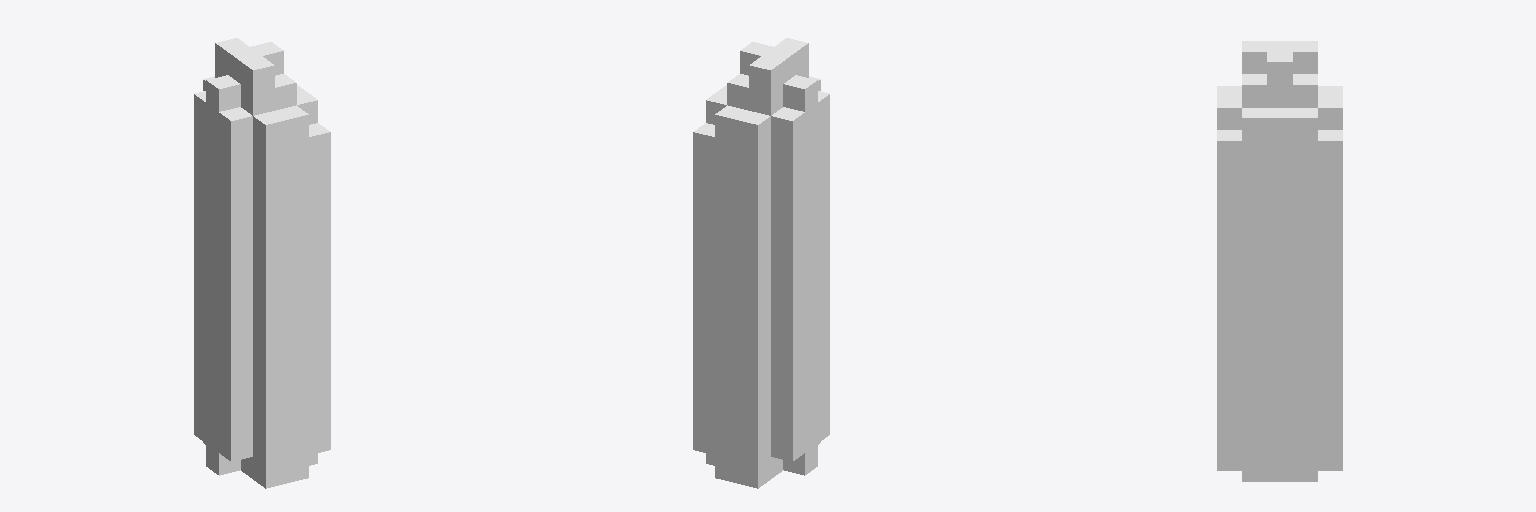
File: RFoot.obj
3 renders of one model, left to right at view 1: azimuth 30°, elevation 25°; view 2: azimuth 150°, elevation 25°; view 3: azimuth 270°, elevation 25°, orthographic.
Visible parts, largest first — view 1: object 1; view 2: object 1; view 3: object 1.
Boxes of the visible parts, x1=… form: object 1: x1=194, y1=38, x2=330, y2=488; object 1: x1=693, y1=38, x2=829, y2=488; object 1: x1=1217, y1=41, x2=1342, y2=481.
Bounding box in the file's own units: 0.4 × 1.8 × 0.5.